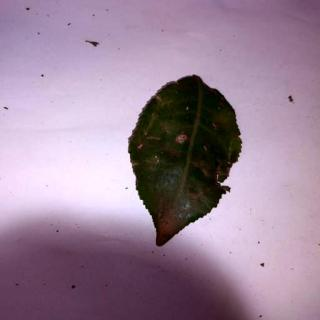Anthracnose: (128, 75, 243, 239)
